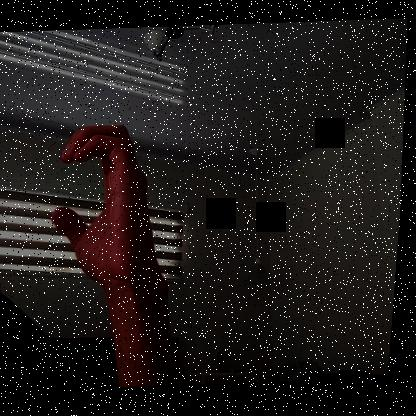C: (47, 122, 172, 287)
